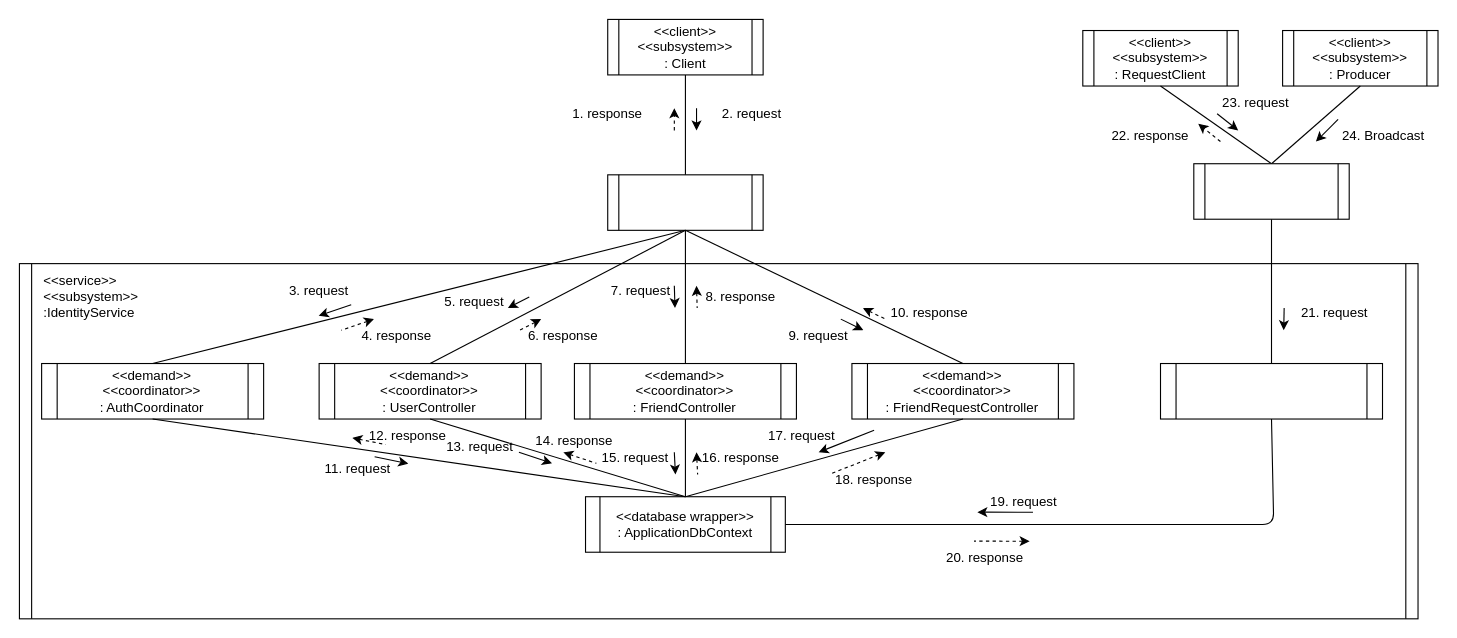
The diagram is 1457 pixels wide and 638 high, and some of its shapes have lost their labels. The centre of each missing label's shape, as x and y in pixels:
"<<coordinator>> : APIGateway" goes at (685,202).
"<<coordinator>> : RabbitMQ" goes at (1271,191).
"<<demand>> <<coordinator>> : Consumer" goes at (1271,390).
